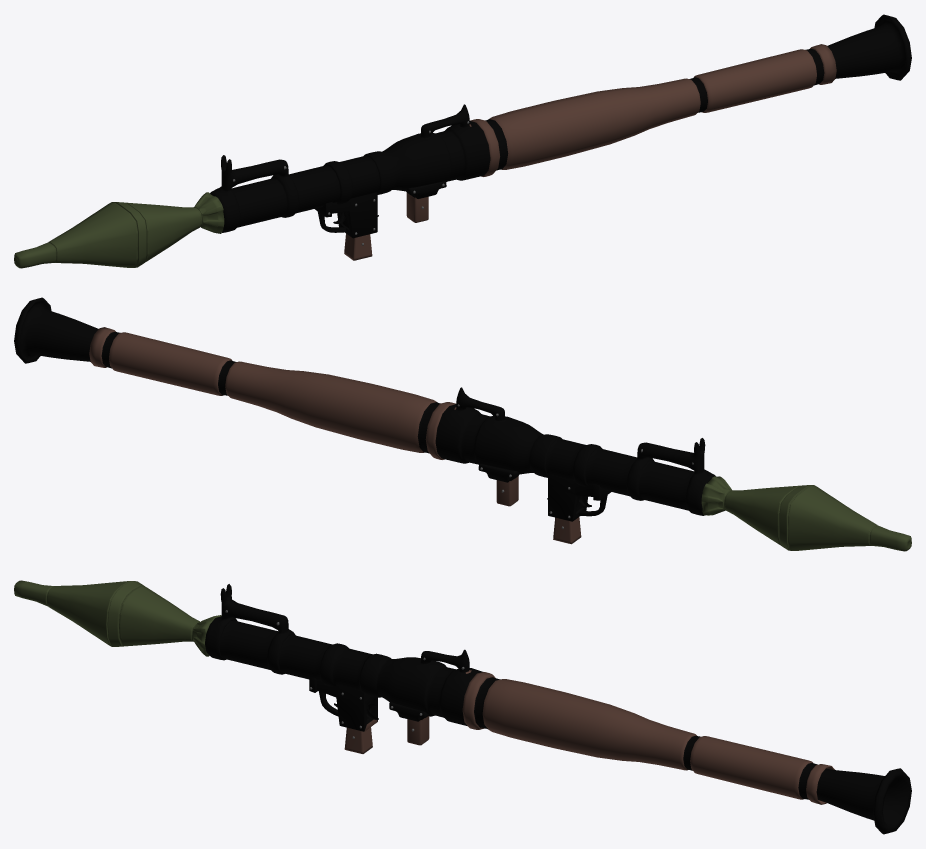
The model's file is GranandeLauncherRPG-7.fbx.
3 views of the same model, one above another, from view 1: azimuth 30°, elevation 25°; view 2: azimuth 150°, elevation 25°; view 3: azimuth 330°, elevation 25° (orthographic).
Visible parts, largest first — view 1: RPG-7, Granade; view 2: RPG-7, Granade; view 3: RPG-7, Granade.
Part boxes in pixels (x1=…): RPG-7: x1=210, y1=14, x2=911, y2=260; Granade: x1=14, y1=192, x2=224, y2=268; RPG-7: x1=14, y1=297, x2=715, y2=544; Granade: x1=701, y1=476, x2=911, y2=551; RPG-7: x1=205, y1=584, x2=911, y2=834; Granade: x1=14, y1=580, x2=221, y2=656.
Size of the model in its own units: 430 by 61.15 by 28.96.
